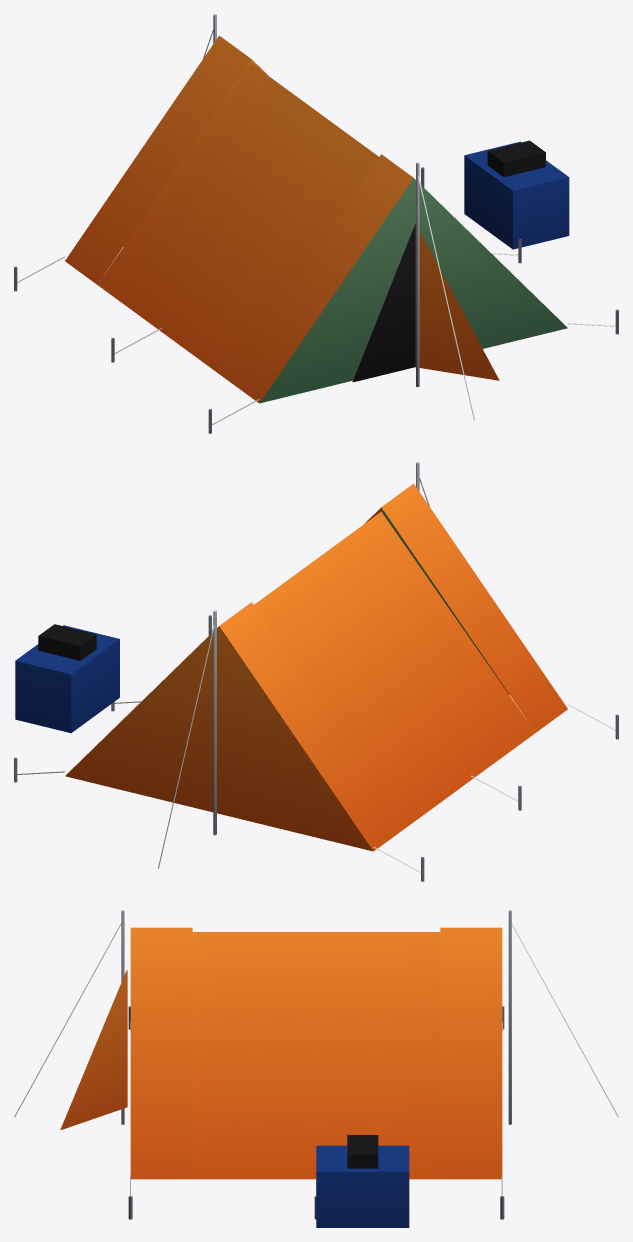
File: Tent.fbx
The picture shows the model from 3 angles, top to bottom: view 1: azimuth 30°, elevation 25°; view 2: azimuth 150°, elevation 25°; view 3: azimuth 270°, elevation 25°; orthographic projection. The views are drawn at different scales.
Parts seen in each view (by area): view 1: Tent_LOD0; view 2: Tent_LOD0; view 3: Tent_LOD0.
Part boxes in pixels (left/top/right/bottom): Tent_LOD0: left=14, top=14, right=618, bottom=433; Tent_LOD0: left=14, top=462, right=618, bottom=881; Tent_LOD0: left=14, top=910, right=618, bottom=1227.
Size of what is drawn, in the model's own units: 3.26 by 1.52 by 3.91.
1 material, 1 textured.
